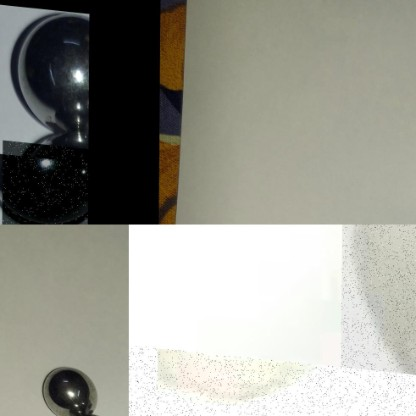ironball: (128, 337, 415, 415), (341, 224, 415, 415), (12, 13, 92, 131), (2, 133, 88, 224), (38, 363, 98, 414)
